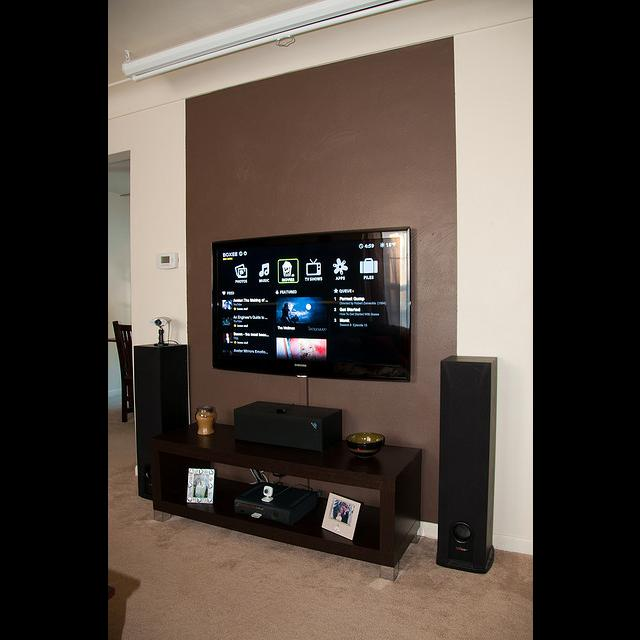Flat-Panel-TV: (212, 230, 412, 384)
